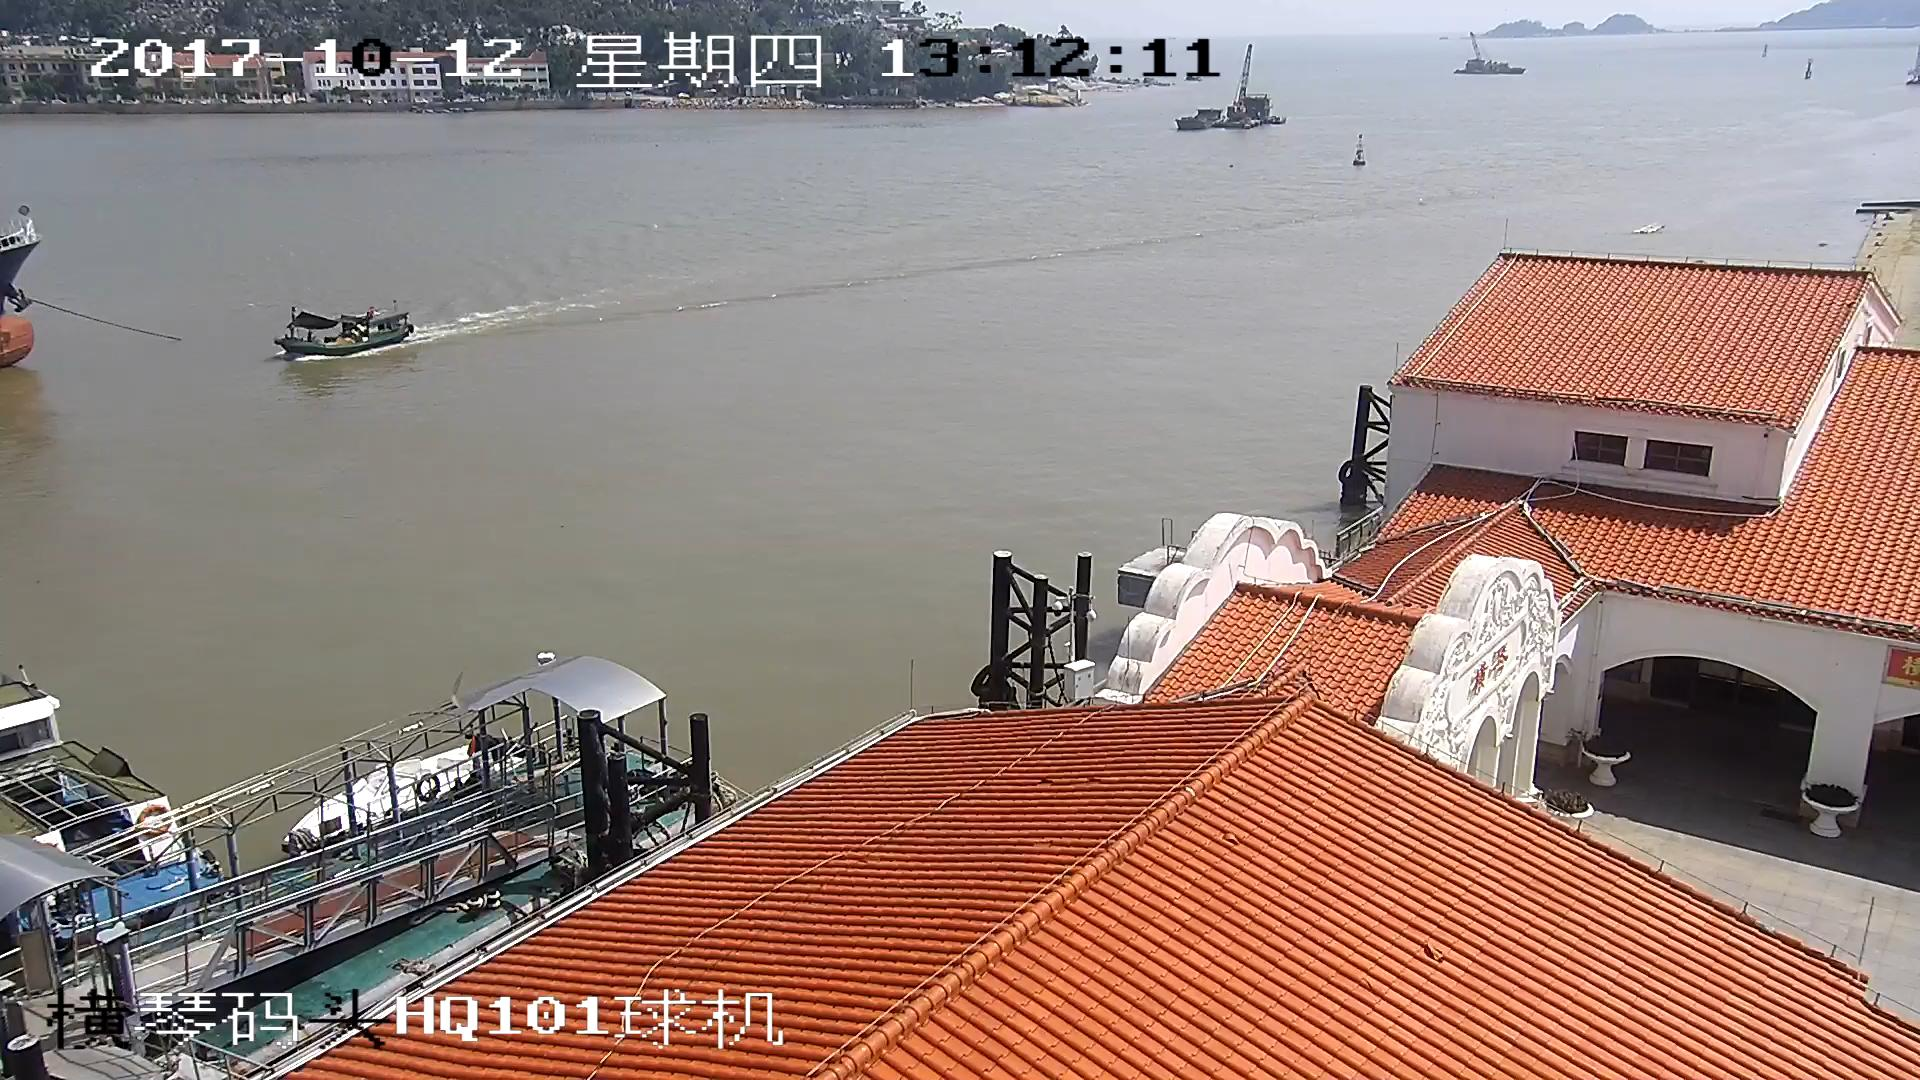fishing boat: (270, 299, 409, 354)
